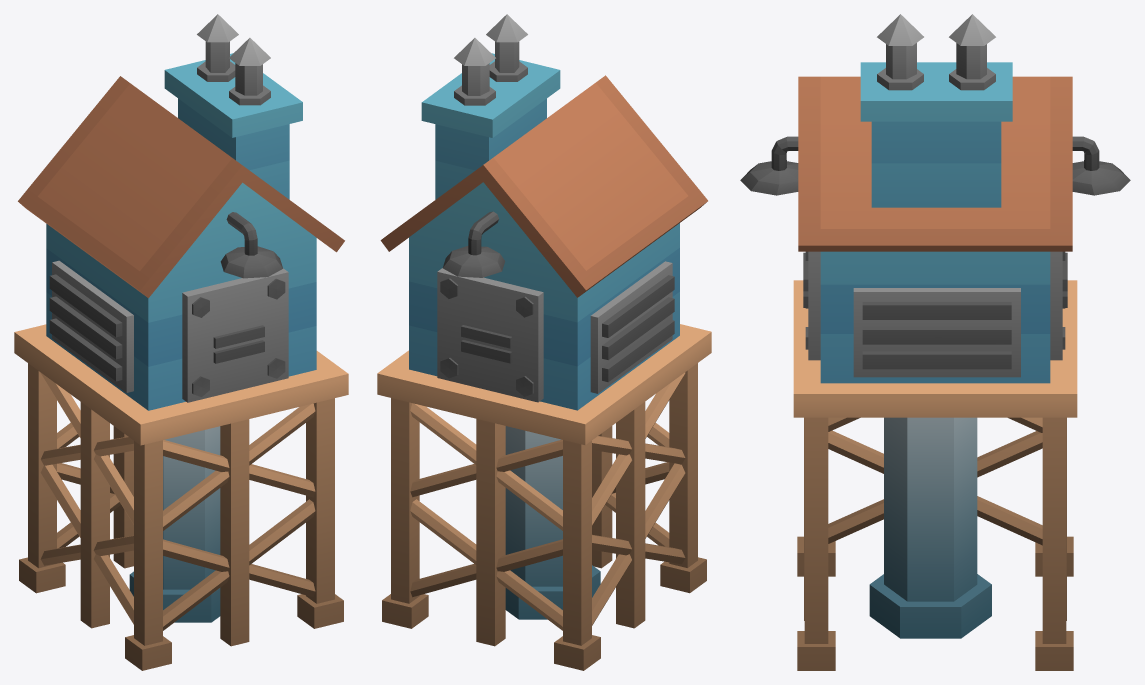
File: mine small house.fbx
The picture shows the model from 3 angles, left to right: view 1: azimuth 30°, elevation 25°; view 2: azimuth 150°, elevation 25°; view 3: azimuth 270°, elevation 25°; orthographic projection. The views are drawn at different scales.
Visible parts, largest first — view 1: mine_small_house; view 2: mine_small_house; view 3: mine_small_house.
Part boxes in pixels (<box>): mine_small_house: <box>14,14,348,670</box>; mine_small_house: <box>377,14,711,670</box>; mine_small_house: <box>740,14,1130,670</box>.
Size of the model in its own units: 417 by 1078 by 605.
1 material, 1 textured.
